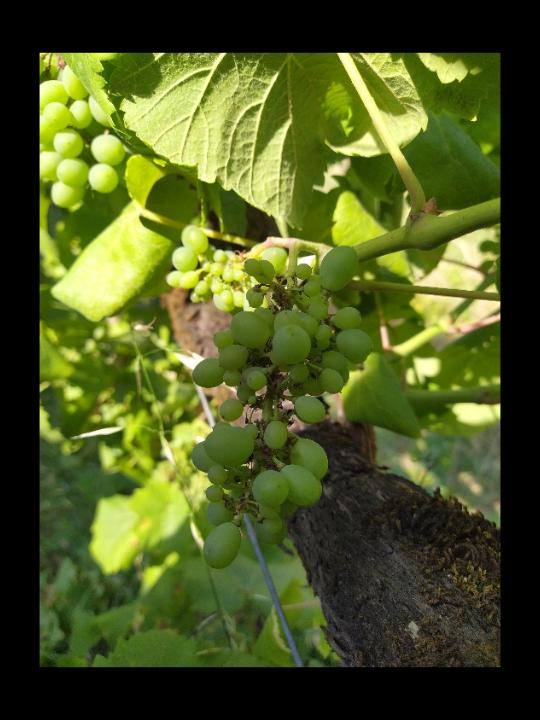grape: (186, 223, 376, 573), (162, 217, 250, 313)
